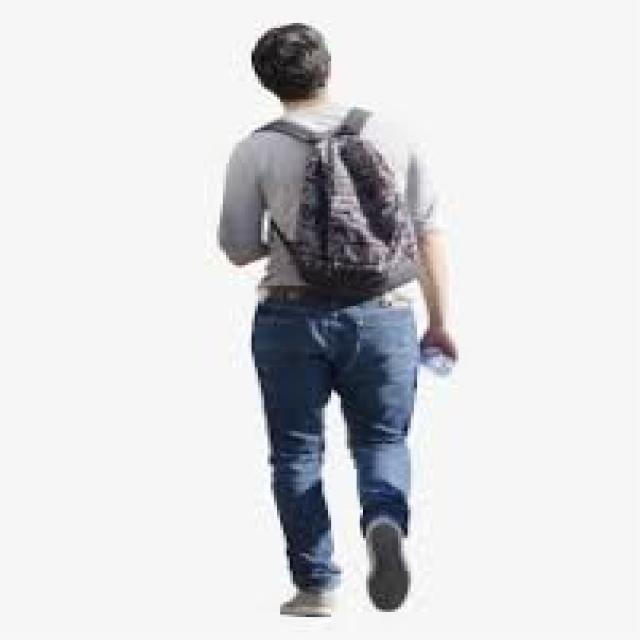Person: (214, 23, 461, 619)
